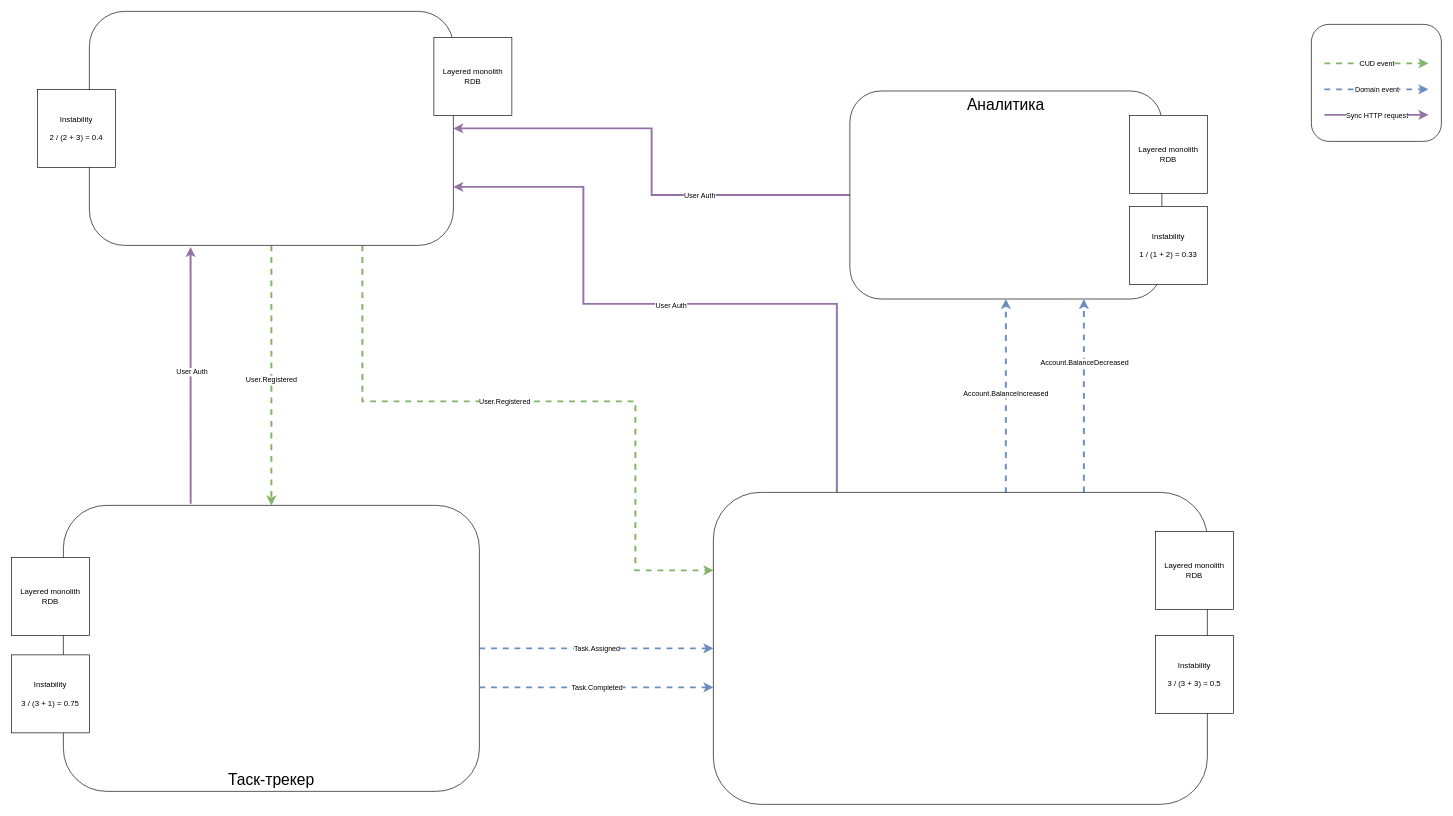
The diagram is 1453 pixels wide and 816 high, and some of its shapes have lost their labels. The shapes that lost their labels are listed below. From the top down, each one's box as (x1, y1, x2, y2) in pixels, then its label:
(1311, 24, 1441, 141): Legend
(89, 11, 453, 245): Аутентификация и авторизация
(713, 492, 1207, 804): Аккаунтинг
